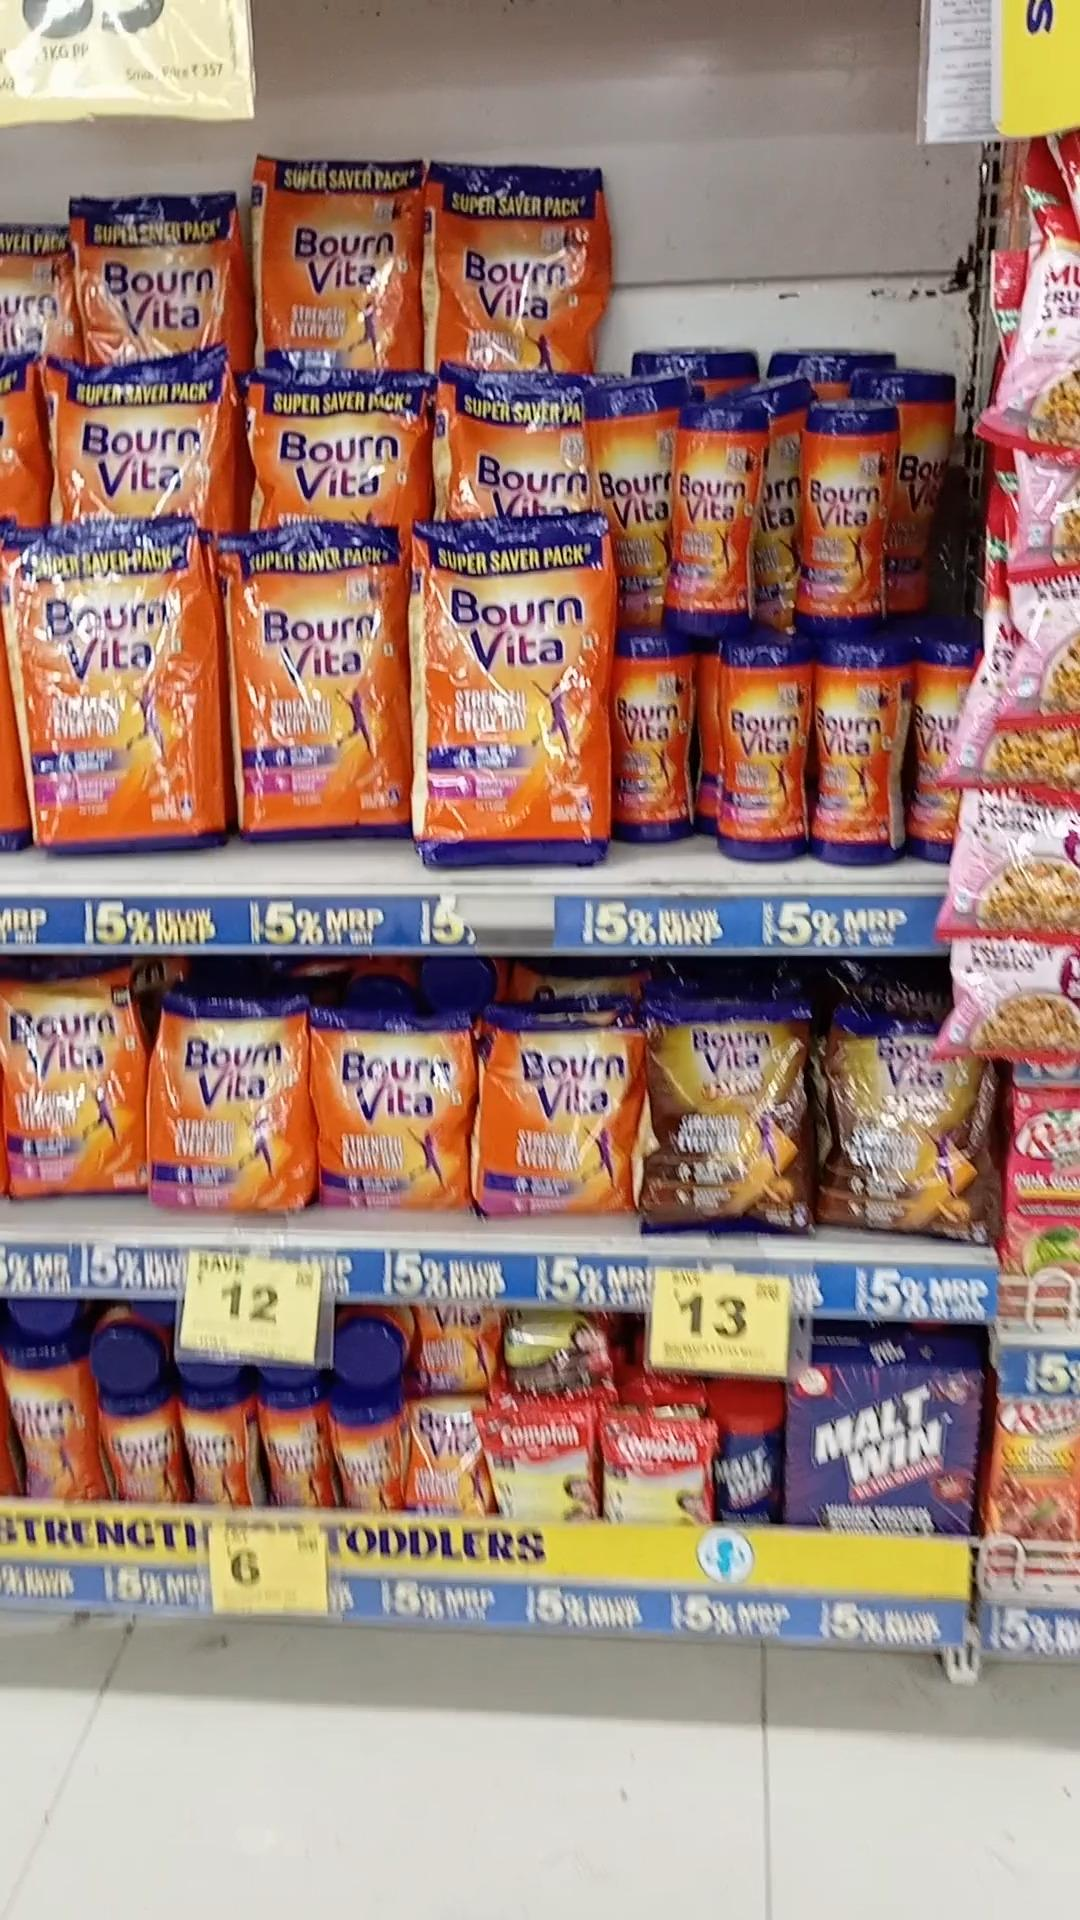BOURN_VITA_1_KG_POUCH: (4, 526, 218, 849), (414, 516, 600, 866), (239, 527, 400, 839), (257, 154, 418, 364), (431, 160, 593, 363), (44, 359, 225, 512), (248, 376, 429, 509), (78, 193, 229, 335)
BOURN_VITA_200_G_JAR: (104, 1399, 178, 1503), (332, 1399, 400, 1511), (256, 1391, 323, 1503), (182, 1398, 243, 1507)
BOURN_VITA_500_G_JAR: (802, 390, 887, 632), (716, 644, 810, 857), (816, 640, 906, 861), (674, 406, 754, 636), (613, 638, 695, 839), (5, 1335, 90, 1507)
BOURN_VITA_500_G_POUCH: (154, 990, 302, 1217), (311, 1007, 468, 1215), (479, 1014, 634, 1212)
BOURN_VITA_750_G_POUCH: (1, 959, 138, 1195)
BOURN_VITA_FIVE_STAR_MAGIC_500_G_POUCH: (647, 998, 812, 1236), (827, 1015, 990, 1242)
